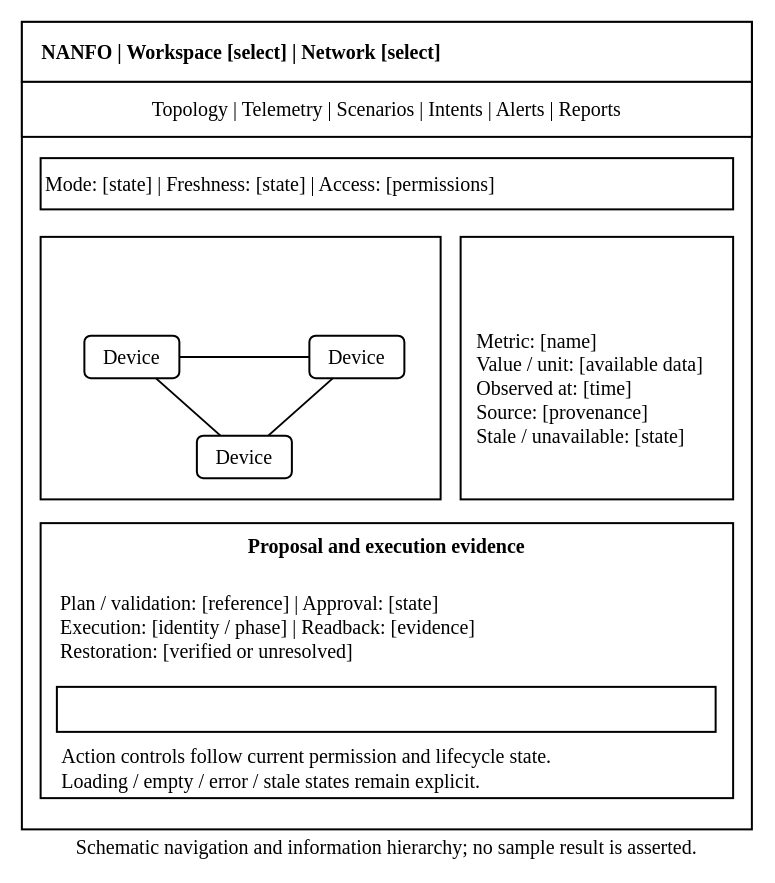
Some shapes in this 775 by 883 pixel diagram are drawn without their labels. The box of each missing label's shape, as (x1, y1, x2, y2) in pixels:
Measurement details: (459, 235, 734, 500)
Open intent details | Inspect readback | Review restoration: (55, 685, 716, 732)
Topology / spatial inspection: (39, 235, 441, 500)
